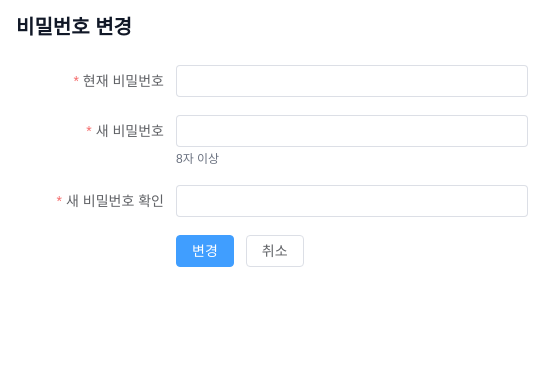
Test: PasswordChangeView › 400 PASSWORD_REUSE 응답 시 reuse 오류 메시지 표시
Type "OldPass1!" into the password field with test id "input-current". click: [352, 81]
box: [187,66,517,96]
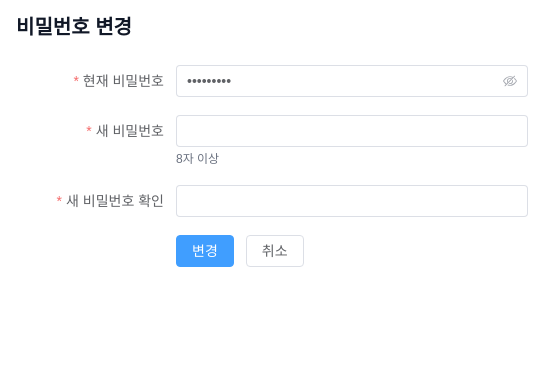
Type "NewPass1@#" into the password field with test id "input-new". click: [352, 131]
box: [187,116,517,146]
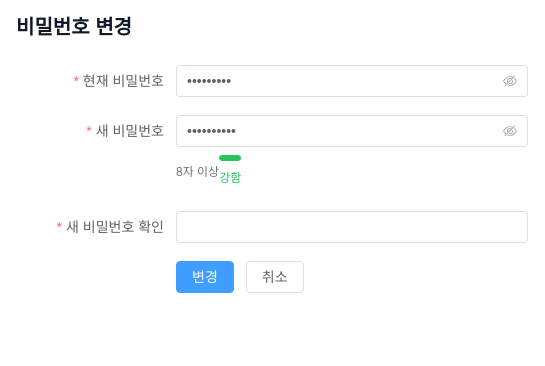
Type "NewPass1@#" into the password field with test id "input-confirm". click: [352, 227]
box: [187,212,517,242]
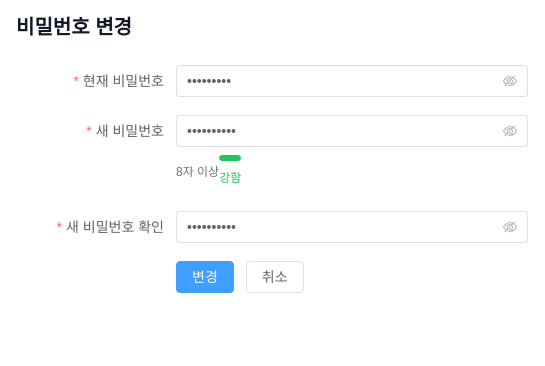
Submit the form, box [16,65,528,293]
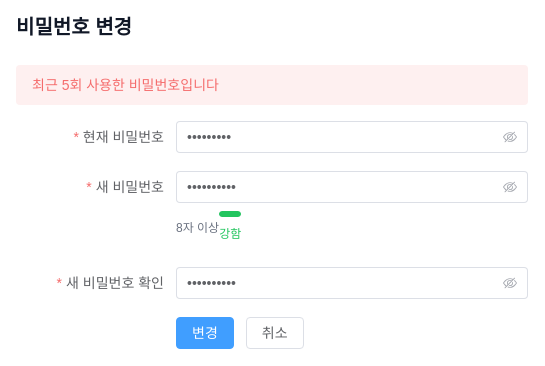
Expected: the message "최근 5회 사용한 비밀번호입니다" is shown, [16,65,528,105]
Expected: the message with test id "error-alert" shows "최근 5회 사용한 비밀번호", [32,77,219,93]
